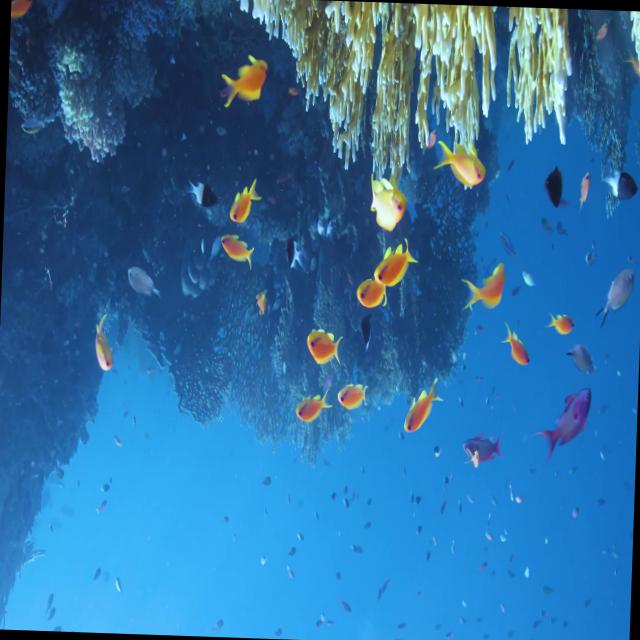fish: (532, 380, 598, 462), (420, 124, 494, 196), (588, 254, 640, 340), (214, 46, 272, 120), (402, 364, 445, 444), (362, 164, 410, 232), (371, 236, 421, 299), (458, 265, 512, 322), (84, 300, 122, 380), (593, 148, 640, 207), (280, 381, 332, 434), (456, 422, 500, 482), (222, 170, 264, 230), (300, 325, 347, 377), (533, 296, 578, 343), (217, 230, 261, 274), (338, 372, 376, 422), (498, 331, 532, 379), (350, 280, 390, 318), (538, 163, 564, 210), (10, 0, 33, 44)
